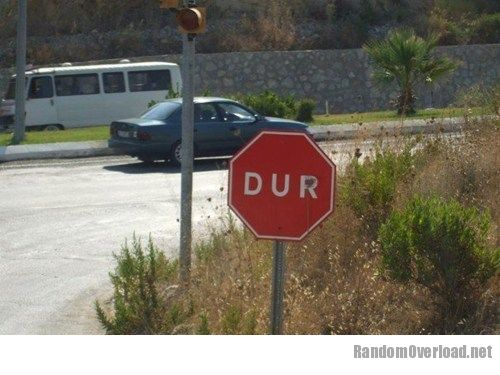dur: (228, 131, 339, 250)
minibus: (10, 51, 187, 143)
otomobil: (122, 94, 294, 157)
